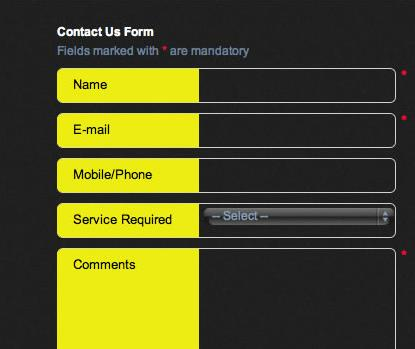field: (197, 247, 398, 349), (196, 112, 397, 148), (197, 67, 396, 103), (198, 157, 397, 193), (202, 206, 396, 226)
field_with_label: (73, 246, 400, 349), (73, 155, 399, 195), (73, 111, 400, 150), (72, 66, 398, 105), (73, 203, 398, 228)
